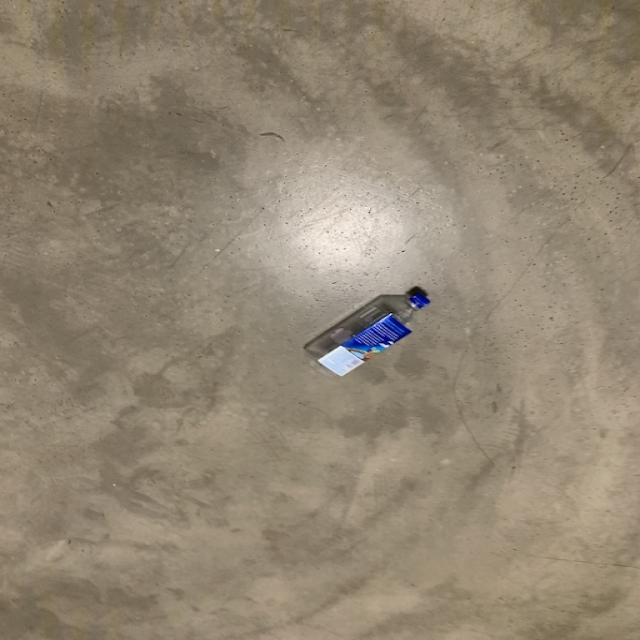Waste: (305, 287, 431, 377)
